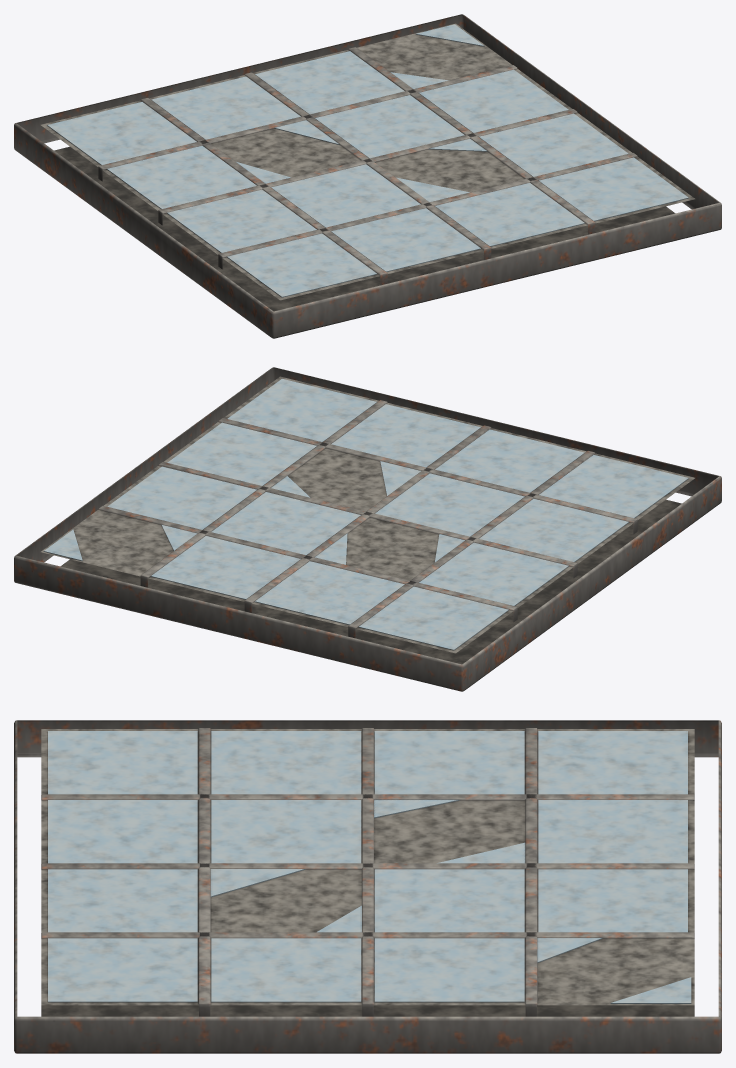
Rendered from broken_skylight.fbx.
3 renders of one model, top to bottom at view 1: azimuth 30°, elevation 25°; view 2: azimuth 150°, elevation 25°; view 3: azimuth 270°, elevation 25°, orthographic. The views are drawn at different scales.
Visible parts, largest first — view 1: Glass, Body; view 2: Glass, Body; view 3: Glass, Body.
Boxes of the visible parts, box(x1,y1,x2,y2) form: Glass: box(47, 24, 688, 297); Body: box(14, 14, 721, 338); Glass: box(43, 379, 688, 650); Body: box(14, 367, 721, 691); Glass: box(48, 731, 691, 1003); Body: box(14, 720, 721, 1053).
Bounding box in the file's own units: 10.4 × 0.67 × 10.4.
1 material, 1 textured.
